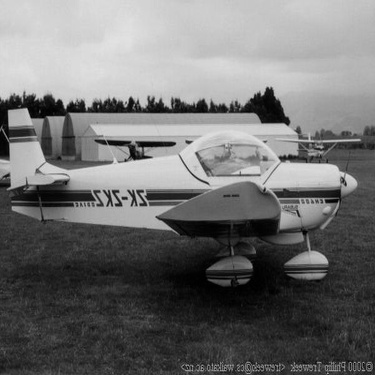airplane: (4, 98, 363, 287), (267, 115, 366, 173)
